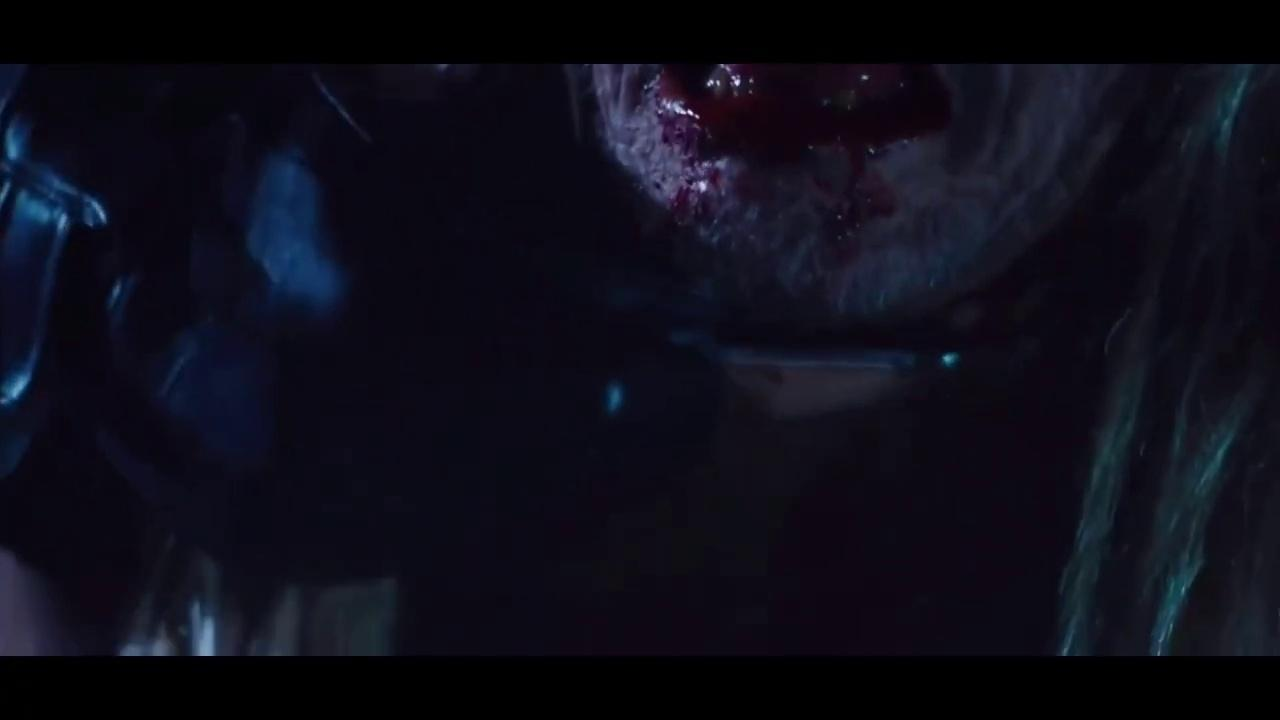Fire: (655, 71, 949, 253)
